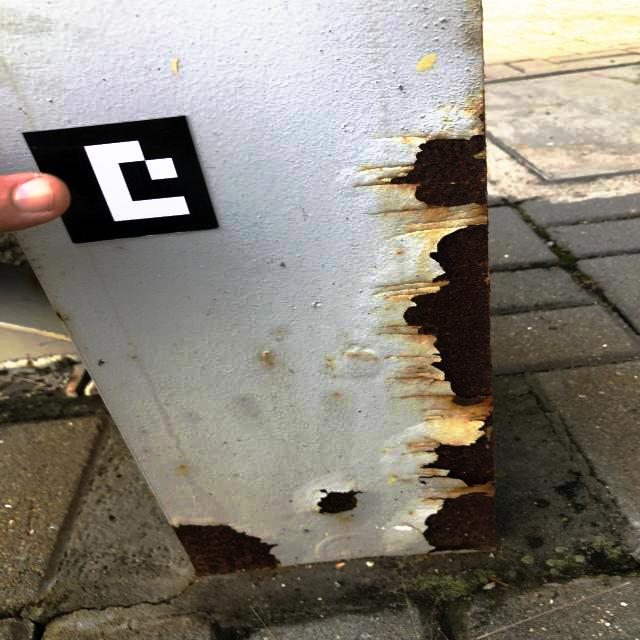Corrosion: (394, 106, 494, 552), (173, 525, 280, 580), (317, 490, 363, 513)
